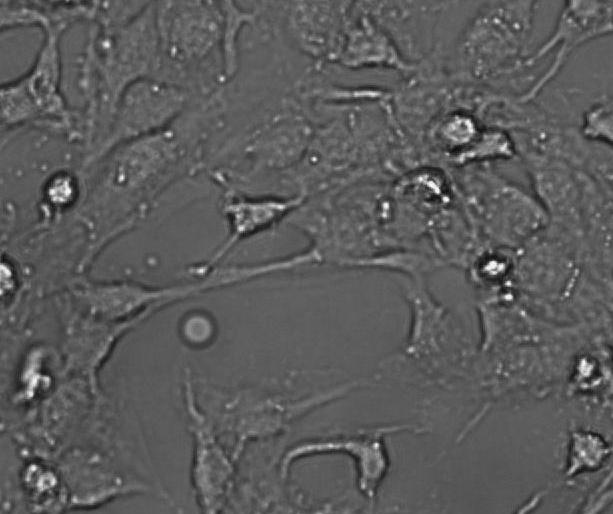Dead: (216, 190, 292, 237), (555, 420, 613, 479), (385, 158, 450, 206), (13, 347, 58, 406), (449, 131, 521, 162), (175, 307, 219, 348), (39, 168, 82, 208), (432, 108, 478, 145), (570, 352, 607, 396), (1, 254, 24, 307), (17, 455, 43, 487), (34, 470, 59, 496)
